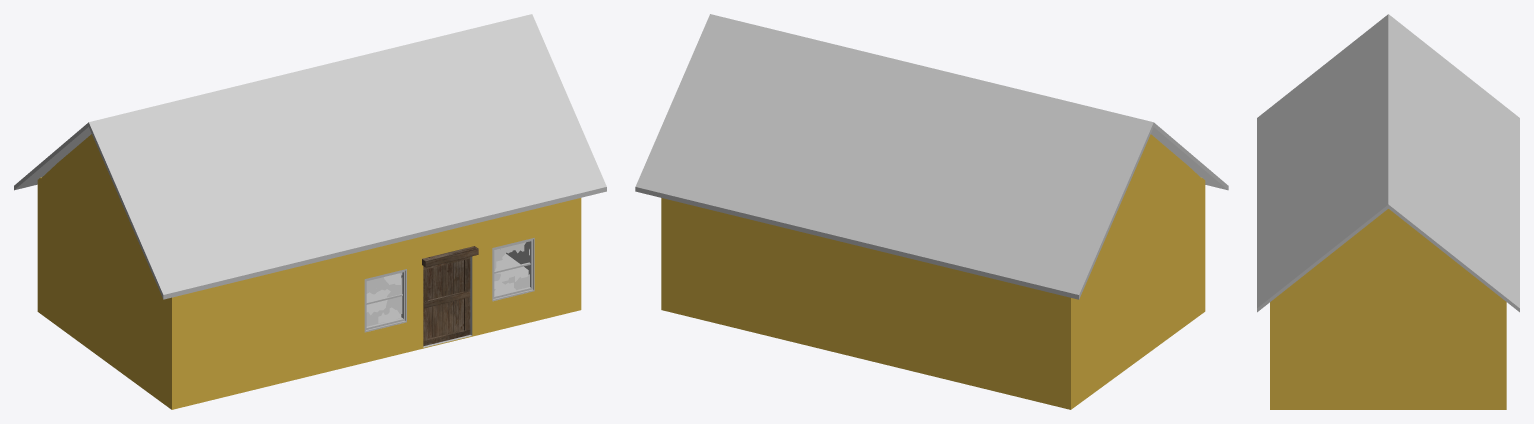
The model's file is farmer house.fbx.
The picture shows the model from 3 angles, left to right: view 1: azimuth 30°, elevation 25°; view 2: azimuth 150°, elevation 25°; view 3: azimuth 270°, elevation 25°; orthographic projection. The views are drawn at different scales.
Parts seen in each view (by area): view 1: Cube.011, Cube.013, Cube.016, Plane_cell.113, Cube.009, Cube.010, Plane_cell.078, Cube.001; view 2: Cube.011, Cube.013; view 3: Cube.011, Cube.013.
Boxes of the visible parts, <box> form: Cube.011: <box>14,14,606,299</box>; Cube.013: <box>37,134,581,409</box>; Cube.016: <box>423,257,470,346</box>; Plane_cell.113: <box>366,272,402,326</box>; Cube.009: <box>492,238,534,301</box>; Cube.010: <box>364,269,406,332</box>; Plane_cell.078: <box>494,242,529,290</box>; Cube.001: <box>422,246,478,267</box>; Cube.011: <box>635,14,1228,299</box>; Cube.013: <box>661,134,1205,409</box>; Cube.011: <box>1257,14,1519,312</box>; Cube.013: <box>1270,209,1506,409</box>.
Bounding box in the file's own units: 1550 × 810 × 904.
